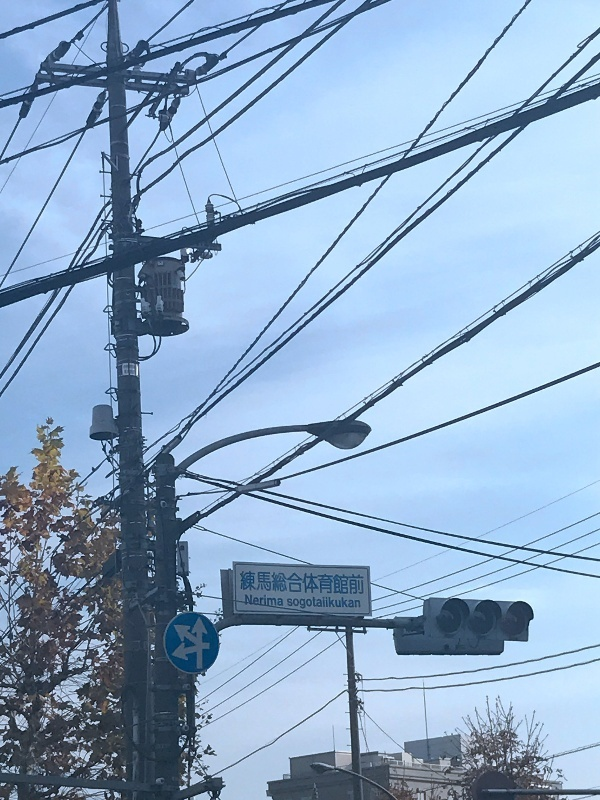text: (241, 571, 256, 595), (257, 571, 272, 595), (273, 571, 288, 595), (289, 571, 304, 595), (305, 571, 320, 595), (321, 571, 336, 595), (337, 571, 352, 595), (353, 571, 364, 595), (289, 597, 304, 613), (305, 597, 320, 613), (321, 597, 336, 613), (337, 597, 352, 613), (257, 594, 272, 606), (353, 597, 362, 613), (245, 594, 256, 606), (273, 594, 284, 606), (287, 597, 288, 613)
